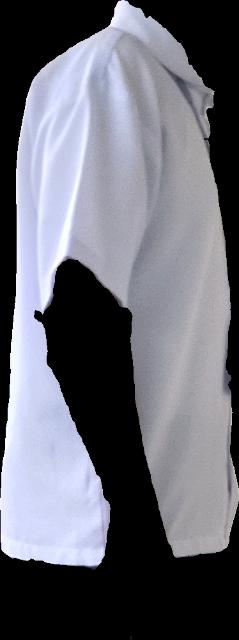poloboy: (0, 0, 238, 570)
